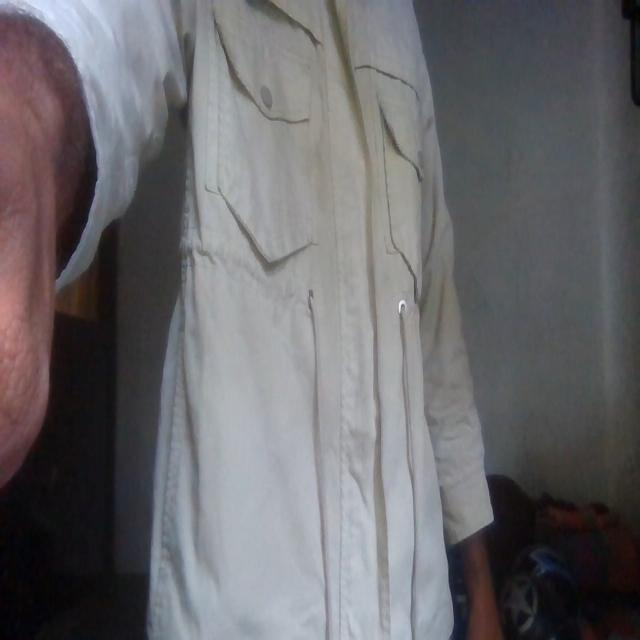Jacket_Wearer: (157, 0, 492, 638)
Person: (1, 0, 508, 640)
